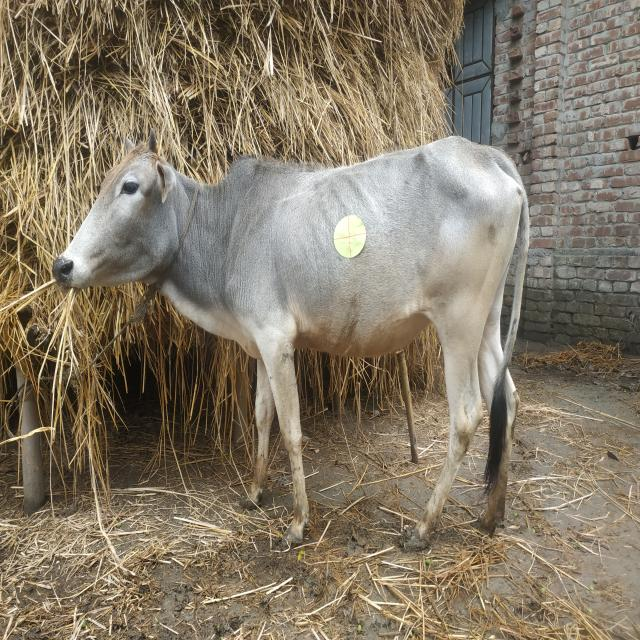badan_sapi: (228, 144, 514, 346)
sapi: (44, 133, 558, 568)
